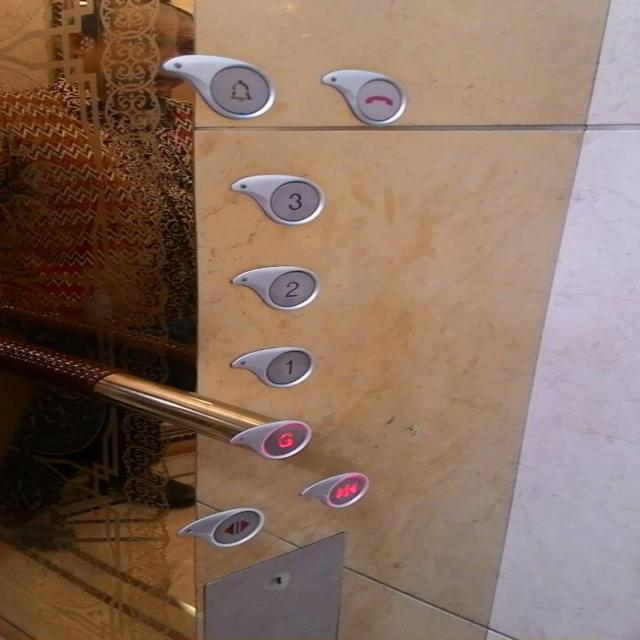1: (228, 348, 314, 388)
2: (230, 265, 319, 309)
3: (230, 174, 324, 224)
G: (228, 419, 312, 459)
alarm: (161, 54, 272, 118)
call: (318, 68, 406, 128)
close: (300, 472, 368, 508)
open: (175, 507, 265, 545)
